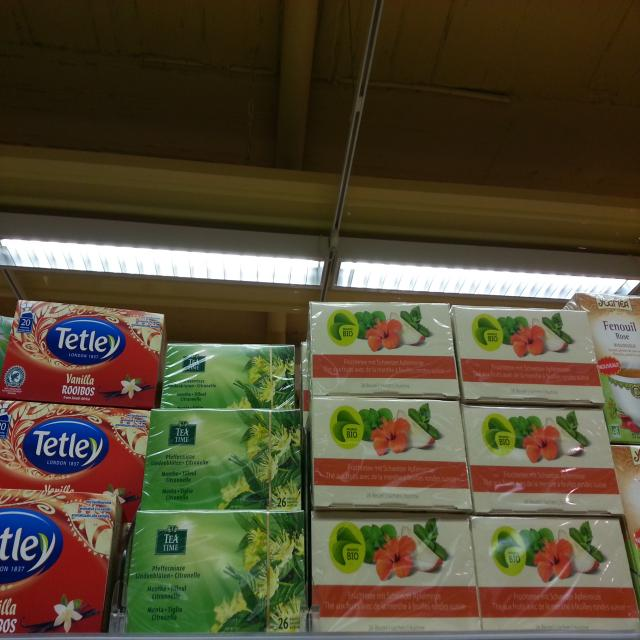Tea: (126, 511, 305, 634), (310, 512, 482, 631), (458, 398, 628, 514), (470, 516, 640, 632), (310, 396, 470, 514), (0, 293, 163, 408), (0, 489, 120, 640), (0, 398, 152, 515), (140, 408, 304, 508), (450, 304, 606, 407), (309, 300, 460, 399), (162, 341, 294, 406), (570, 293, 640, 379)
